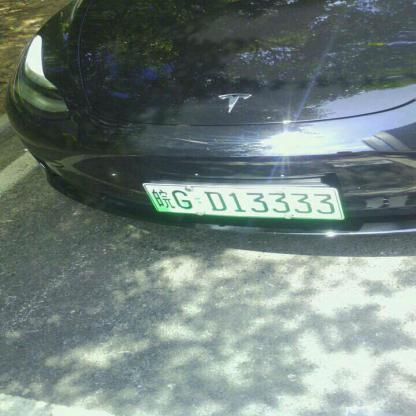lp: (145, 184, 341, 218)
